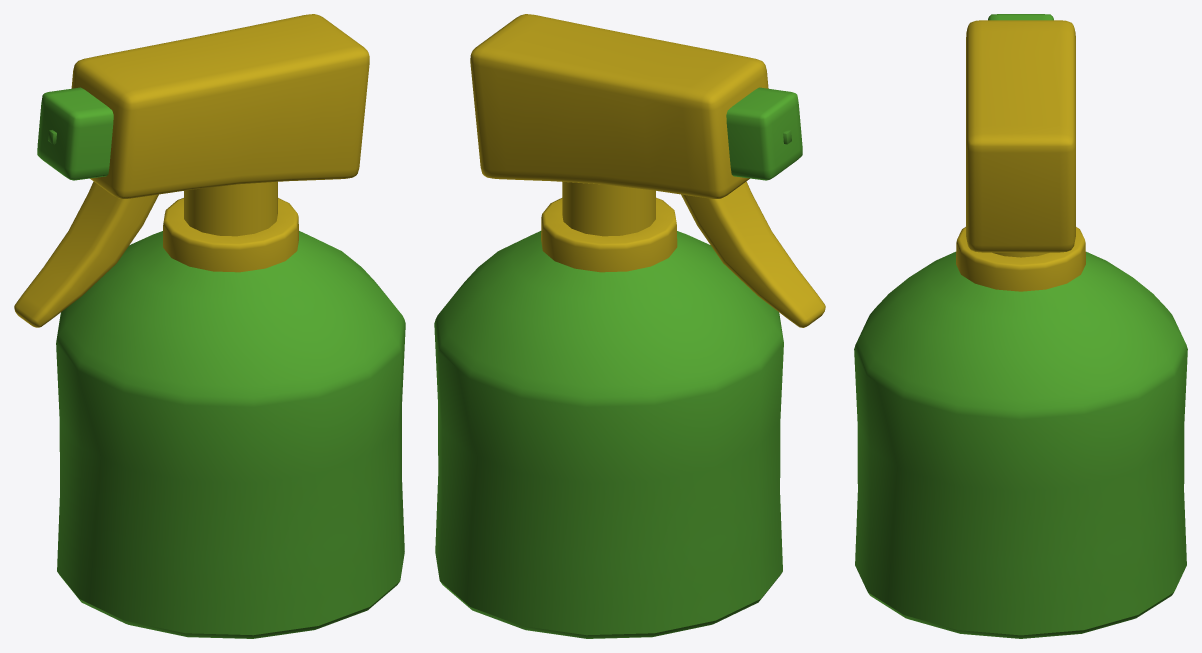
Rendered from SprayBottle-Animated.fbx.
3 views of the same model, side by side, from view 1: azimuth 30°, elevation 25°; view 2: azimuth 150°, elevation 25°; view 3: azimuth 270°, elevation 25° (orthographic). The views are drawn at different scales.
Parts seen in each view (by area): view 1: SprayBottle-Animated; view 2: SprayBottle-Animated; view 3: SprayBottle-Animated.
Boxes of the visible parts, left/top/right/bottom form: SprayBottle-Animated: left=14, top=14, right=405, bottom=638; SprayBottle-Animated: left=434, top=14, right=825, bottom=638; SprayBottle-Animated: left=854, top=14, right=1187, bottom=638.
Size of the model in its own units: 7.59 by 10.55 by 6.43.
Materials: 1 (1 with a texture image).
